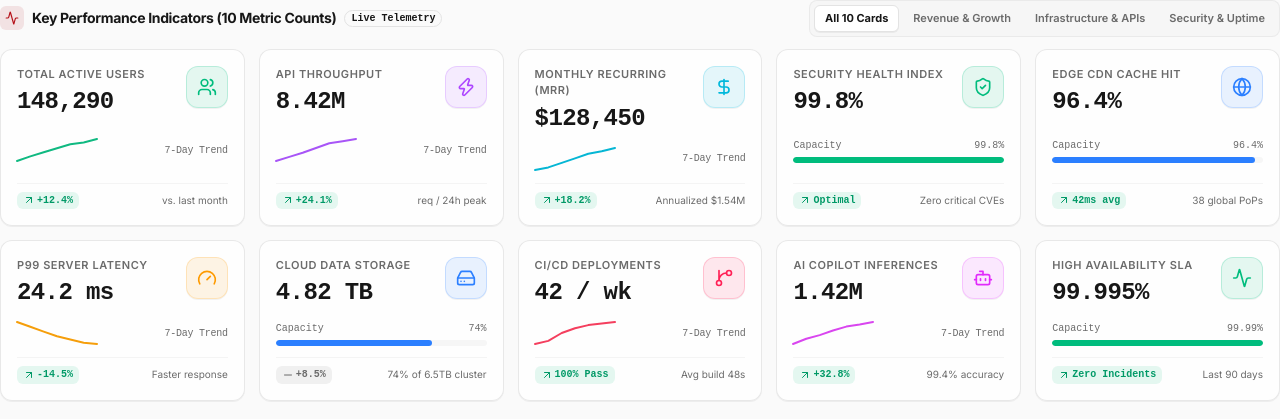
Test: Dashboard 10 KPI Cards & 10 Charts Suite › filters KPI cards by category tab
Click the button "Security & Uptime".
click(1217, 18)  # box [1159,6,1275,30]
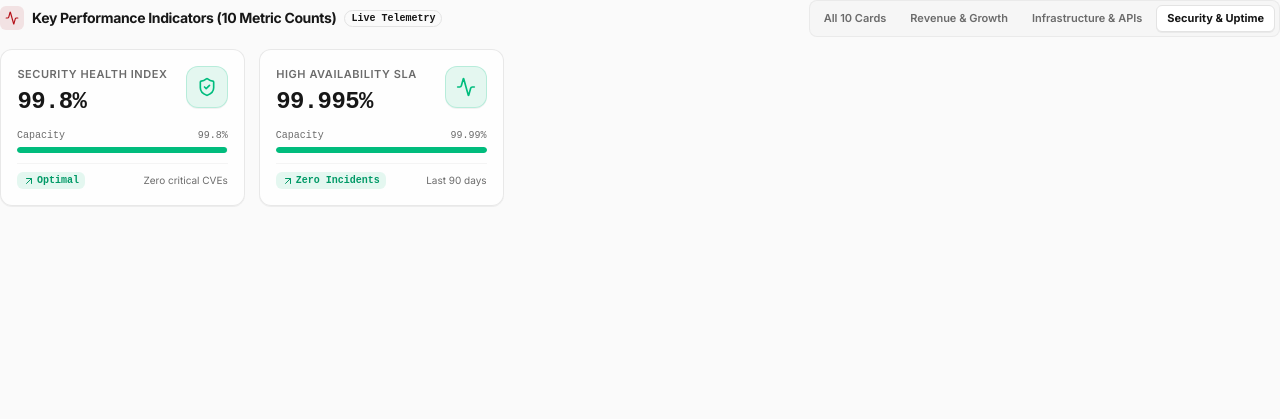
Expected: the text "Security Health Index" is shown, [17,66,167,82]
Expected: the text "Monthly Recurring (MRR)" is gone
